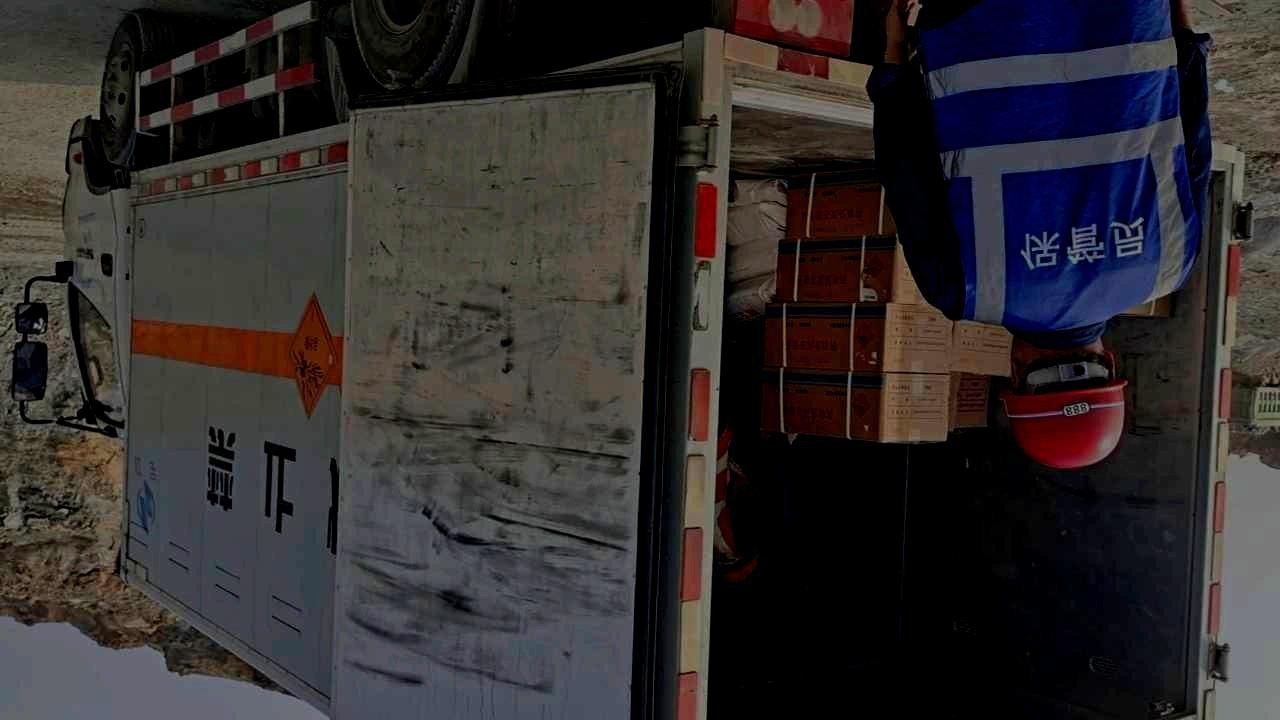helmet: (998, 329, 1129, 468)
